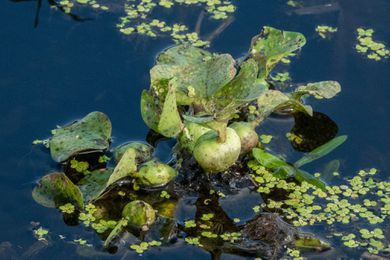water_hyacinth: (27, 14, 344, 247)
